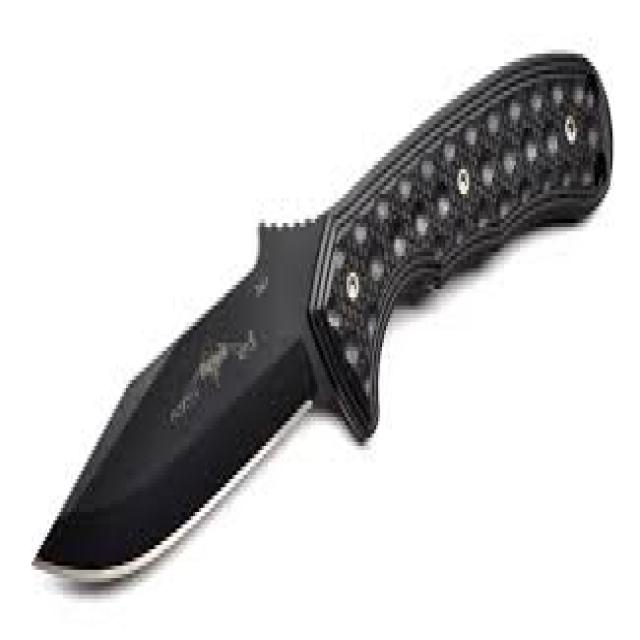knife: (29, 43, 620, 594)
